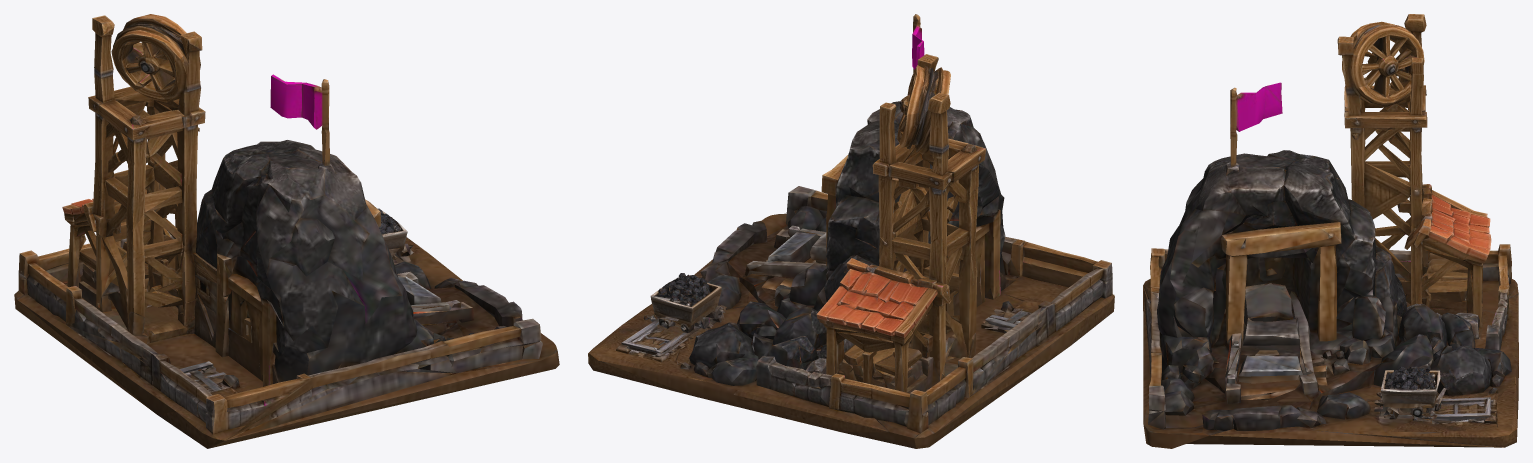
Rendered from iron_mine2.glb.
The picture shows the model from 3 angles, left to right: view 1: azimuth 30°, elevation 25°; view 2: azimuth 150°, elevation 25°; view 3: azimuth 270°, elevation 25°; orthographic projection. The views are drawn at different scales.
Visible parts, largest first — view 1: Mesh_0; view 2: Mesh_0; view 3: Mesh_0.
Boxes of the visible parts, box(x1,y1,x2,y2) form: Mesh_0: box(14, 14, 559, 448); Mesh_0: box(588, 14, 1114, 448); Mesh_0: box(1143, 14, 1518, 448).
Size of the model in its own units: 1.91 by 1.65 by 1.9.
1 material, 1 textured.
